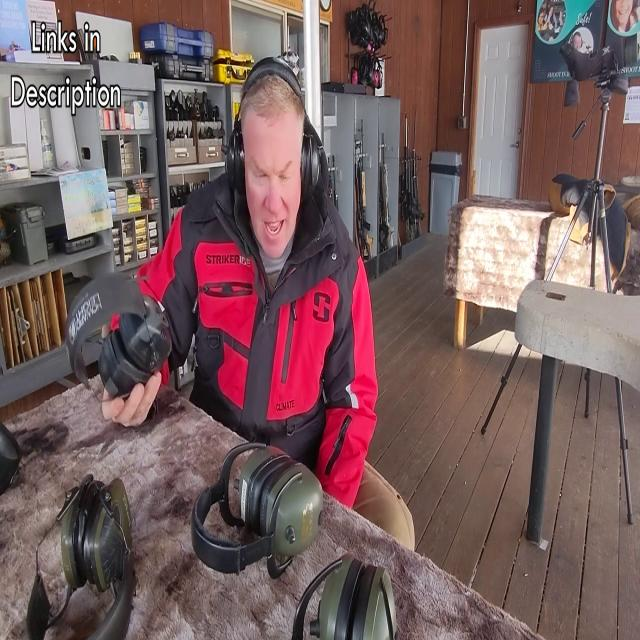earmuff: (298, 124, 328, 205), (224, 121, 252, 205)
